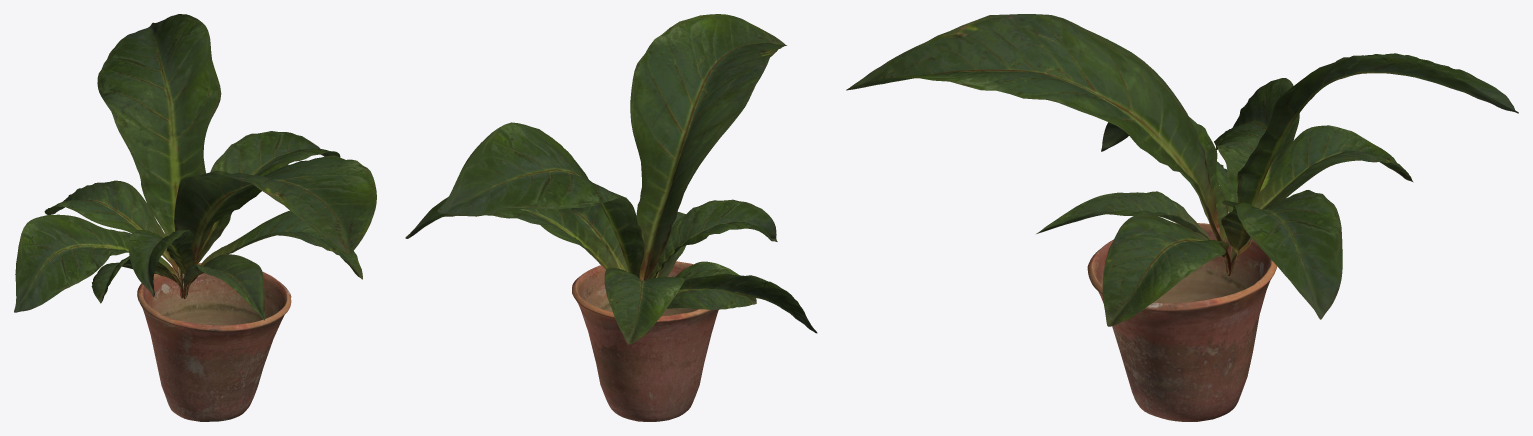
Rendered from plant__7.glb.
3 views of the same model, side by side, from view 1: azimuth 30°, elevation 25°; view 2: azimuth 150°, elevation 25°; view 3: azimuth 270°, elevation 25° (orthographic). The views are drawn at different scales.
Parts seen in each view (by area): view 1: anthurium_botany_01_a.001, planter_pot_clay.002; view 2: anthurium_botany_01_a.001, planter_pot_clay.002; view 3: anthurium_botany_01_a.001, planter_pot_clay.002.
Boxes of the visible parts, x1,y1,x2,y2 form: anthurium_botany_01_a.001: (14, 14, 376, 320); planter_pot_clay.002: (137, 263, 291, 421); anthurium_botany_01_a.001: (405, 14, 817, 344); planter_pot_clay.002: (572, 261, 718, 421); anthurium_botany_01_a.001: (846, 14, 1518, 326); planter_pot_clay.002: (1087, 223, 1276, 421).
Size of the model in its own units: 1.26 by 1.02 by 1.6.
Materials: 2 (2 with a texture image).
